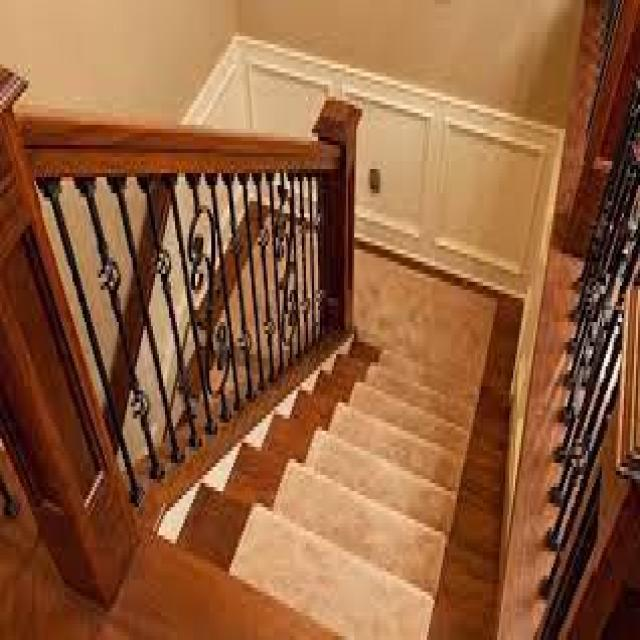Staircase: (195, 310, 512, 640)
